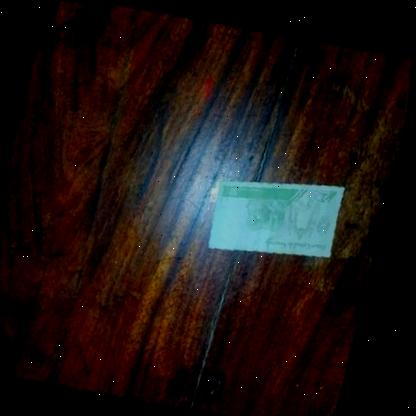fifty-back-vef: (201, 152, 359, 279)
